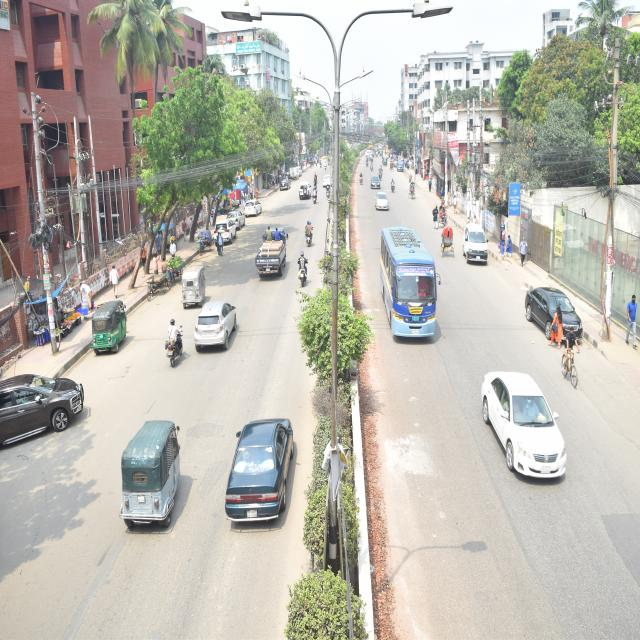bus: (374, 221, 446, 364)
car: (475, 348, 569, 508), (220, 406, 302, 564), (506, 251, 586, 383), (0, 351, 95, 461), (193, 285, 240, 374), (456, 210, 493, 292), (220, 194, 246, 237), (215, 214, 238, 257), (242, 195, 263, 226), (374, 189, 393, 215), (279, 174, 295, 198), (300, 178, 311, 210), (320, 166, 332, 191), (368, 170, 381, 192)
motorbike: (161, 305, 190, 393), (294, 239, 314, 304), (302, 209, 317, 261), (308, 164, 320, 190), (386, 177, 396, 202), (312, 182, 319, 215), (325, 187, 333, 208), (358, 172, 364, 189), (380, 167, 384, 186), (369, 161, 374, 173)
truck: (252, 213, 295, 287)
